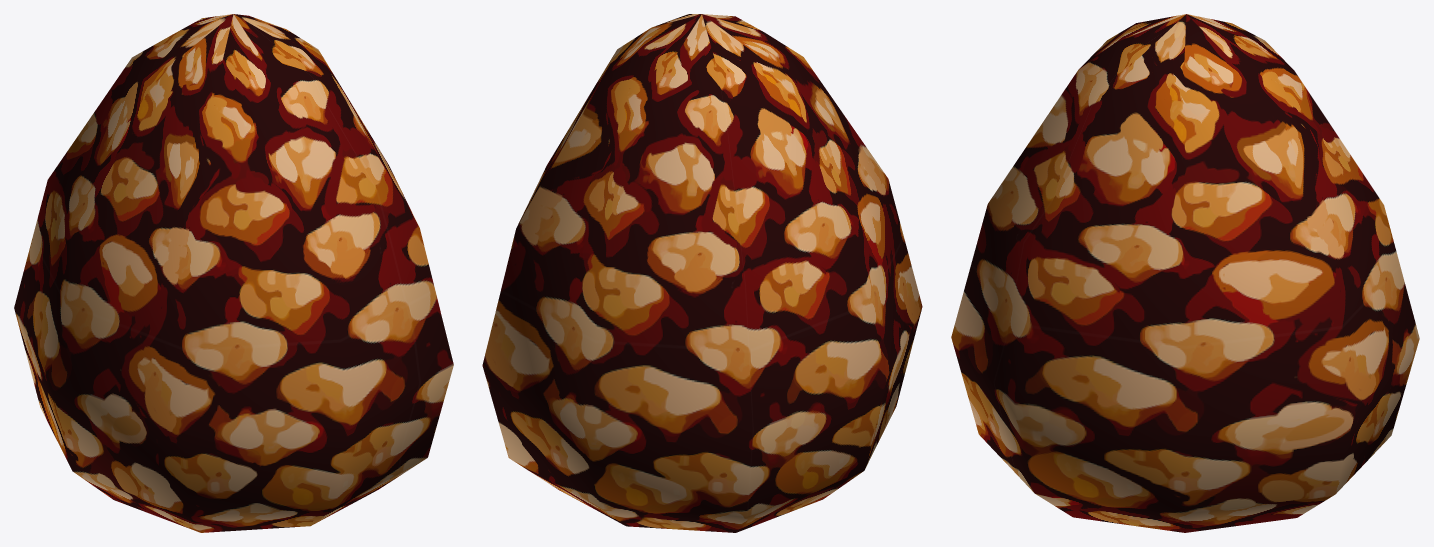
Rendered from SM_ENV_pinecone_02.fbx.
3 views of the same model, side by side, from view 1: azimuth 30°, elevation 25°; view 2: azimuth 150°, elevation 25°; view 3: azimuth 270°, elevation 25° (orthographic).
Visible parts, largest first — view 1: SM_ENV_pinecone_02; view 2: SM_ENV_pinecone_02; view 3: SM_ENV_pinecone_02.
Boxes of the visible parts, bbox=[...] form: SM_ENV_pinecone_02: bbox=[14, 14, 453, 532]; SM_ENV_pinecone_02: bbox=[482, 14, 922, 532]; SM_ENV_pinecone_02: bbox=[951, 14, 1419, 532].
Bounding box in the file's own units: 8.31 × 10.47 × 9.12.
